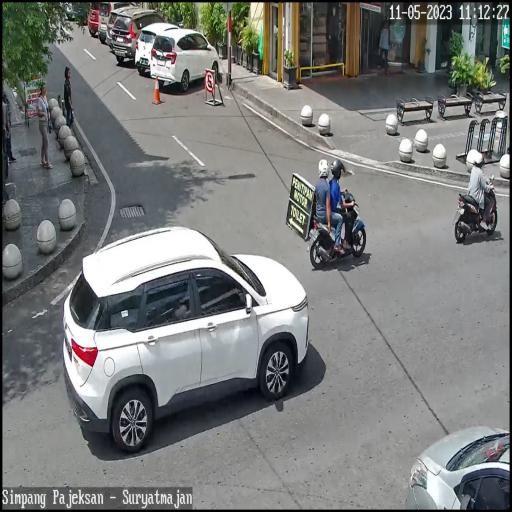mobil: (58, 219, 312, 459), (151, 28, 221, 96), (114, 8, 166, 72), (136, 19, 180, 75)
motor: (306, 185, 368, 272), (450, 179, 501, 245)
